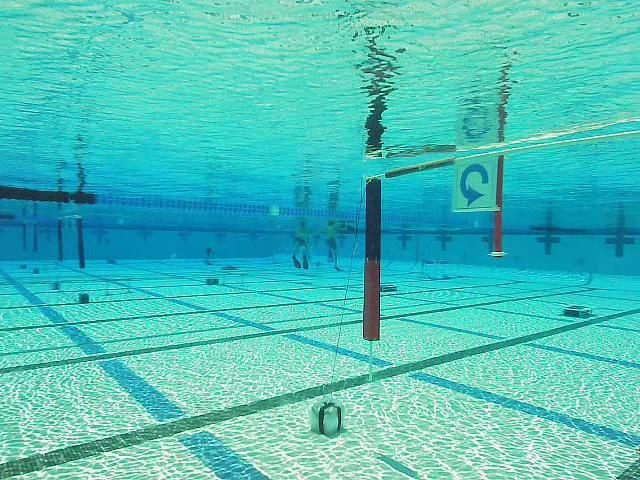gate_blue: (453, 160, 496, 211)
gate_leg_l: (362, 175, 382, 341)
